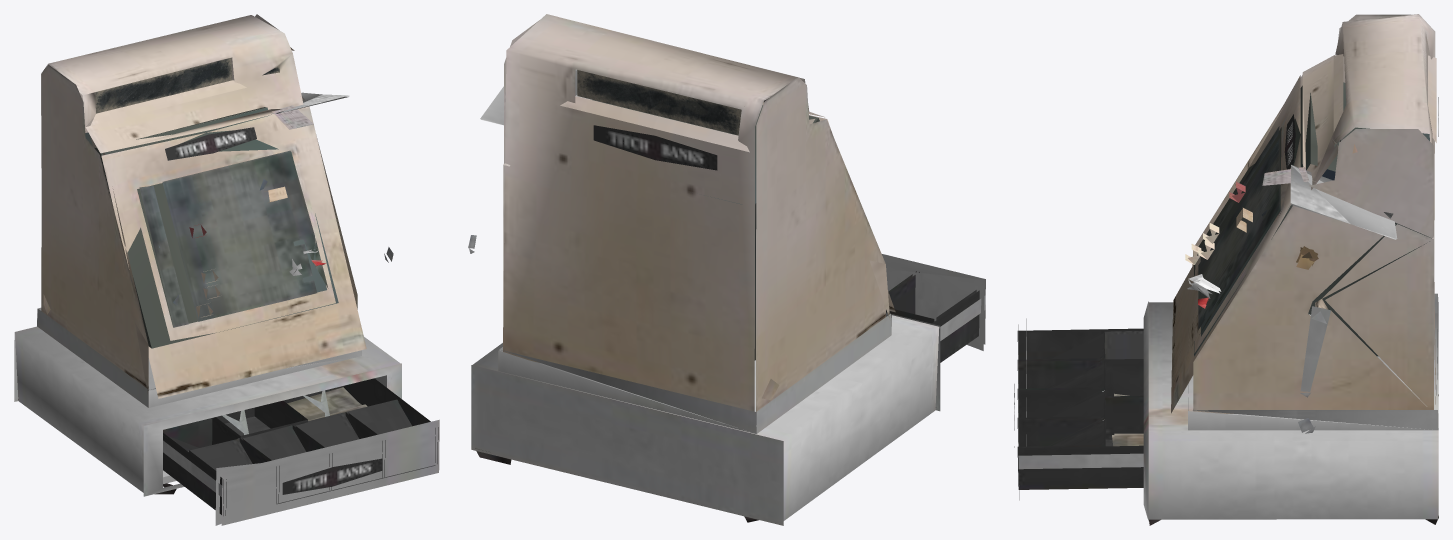
The model's file is ph_CashRegister_01.glb.
3 renders of one model, left to right at view 1: azimuth 30°, elevation 25°; view 2: azimuth 150°, elevation 25°; view 3: azimuth 270°, elevation 25°, orthographic. The views are drawn at different scales.
Visible parts, largest first — view 1: CashRegister_01_body; view 2: CashRegister_01_body; view 3: CashRegister_01_body.
Boxes of the visible parts, x1,y1,x2,y2 form: CashRegister_01_body: [14, 14, 439, 525]; CashRegister_01_body: [468, 14, 985, 525]; CashRegister_01_body: [1014, 14, 1438, 525].
Bounding box in the file's own units: 0.5957 × 0.6208 × 0.6173.
Materials: 2 (2 with a texture image).
